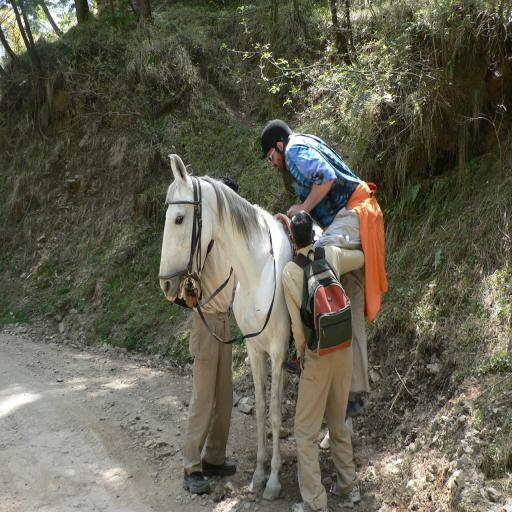horse: (156, 154, 356, 504)
